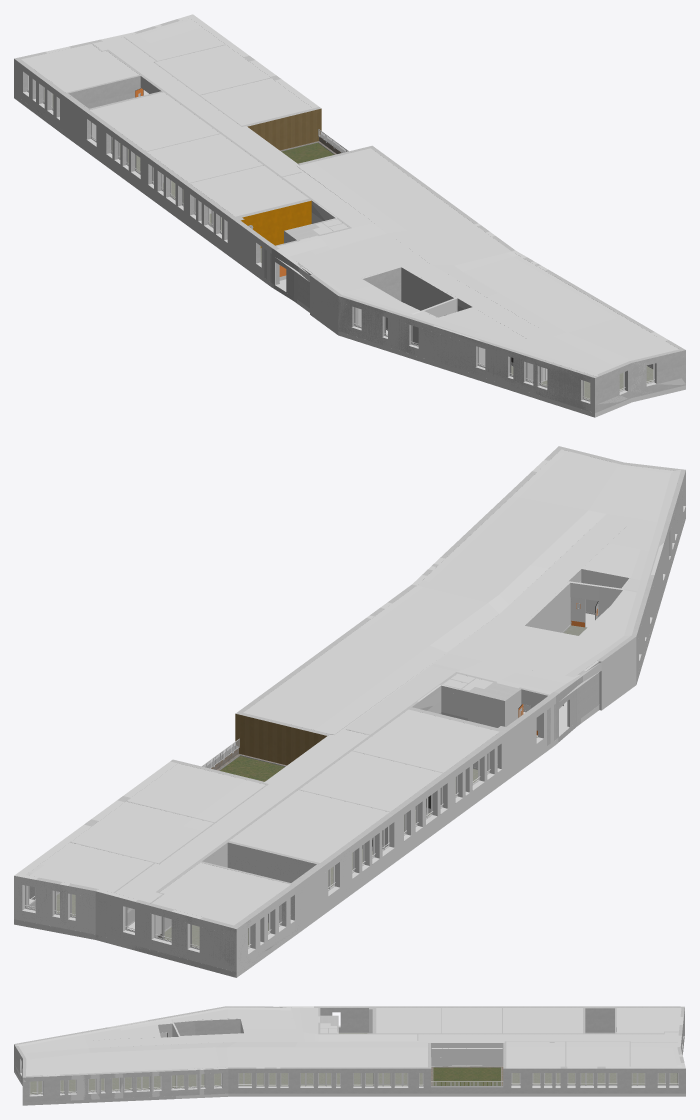
Rendered from 2_floor_aisle_b_sized.glb.
The picture shows the model from 3 angles, top to bottom: view 1: azimuth 30°, elevation 25°; view 2: azimuth 150°, elevation 25°; view 3: azimuth 270°, elevation 25°; orthographic projection. The views are drawn at different scales.
Parts seen in each view (by area): view 1: SIMP_COL, NOCOL_Murs, NOCOL_MERGED_fenetre_2e_aileb, NOCOL_Plafond, NOCOL_Cube_129, NOCOL_Sol; view 2: SIMP_COL, NOCOL_Murs, NOCOL_Plafond, NOCOL_MERGED_fenetre_2e_aileb, NOCOL_Sol, NOCOL_Cube_129; view 3: SIMP_COL, NOCOL_Murs, NOCOL_Sol, NOCOL_MERGED_fenetre_2e_aileb, NOCOL_Cube_129, NOCOL_Plafond, NOCOL_Baie_vitree, NOCOL_Cube_131.
Boxes of the visible parts, box(x1,y1,x2,y2) form: SIMP_COL: box(14, 14, 685, 417); NOCOL_Murs: box(14, 19, 685, 413); NOCOL_MERGED_fenetre_2e_aileb: box(23, 75, 656, 403); NOCOL_Plafond: box(277, 164, 471, 309); NOCOL_Cube_129: box(280, 134, 344, 163); NOCOL_Sol: box(44, 89, 653, 399); SIMP_COL: box(14, 449, 685, 977); NOCOL_Murs: box(18, 446, 685, 972); NOCOL_Plafond: box(322, 526, 626, 734); NOCOL_MERGED_fenetre_2e_aileb: box(22, 506, 685, 954); NOCOL_Sol: box(14, 625, 587, 976); NOCOL_Cube_129: box(205, 746, 286, 781); SIMP_COL: box(14, 1006, 685, 1100); NOCOL_Murs: box(14, 1006, 685, 1102); NOCOL_Sol: box(22, 1033, 684, 1105); NOCOL_MERGED_fenetre_2e_aileb: box(20, 1036, 683, 1096); NOCOL_Cube_129: box(431, 1066, 503, 1093); NOCOL_Plafond: box(141, 1006, 616, 1047); NOCOL_Baie_vitree: box(431, 1048, 503, 1066); NOCOL_Cube_131: box(431, 1081, 503, 1085).
Size of what is drawn, in the model's own units: 18.9 by 3.48 by 75.11.
Materials: 32 (12 with a texture image).
